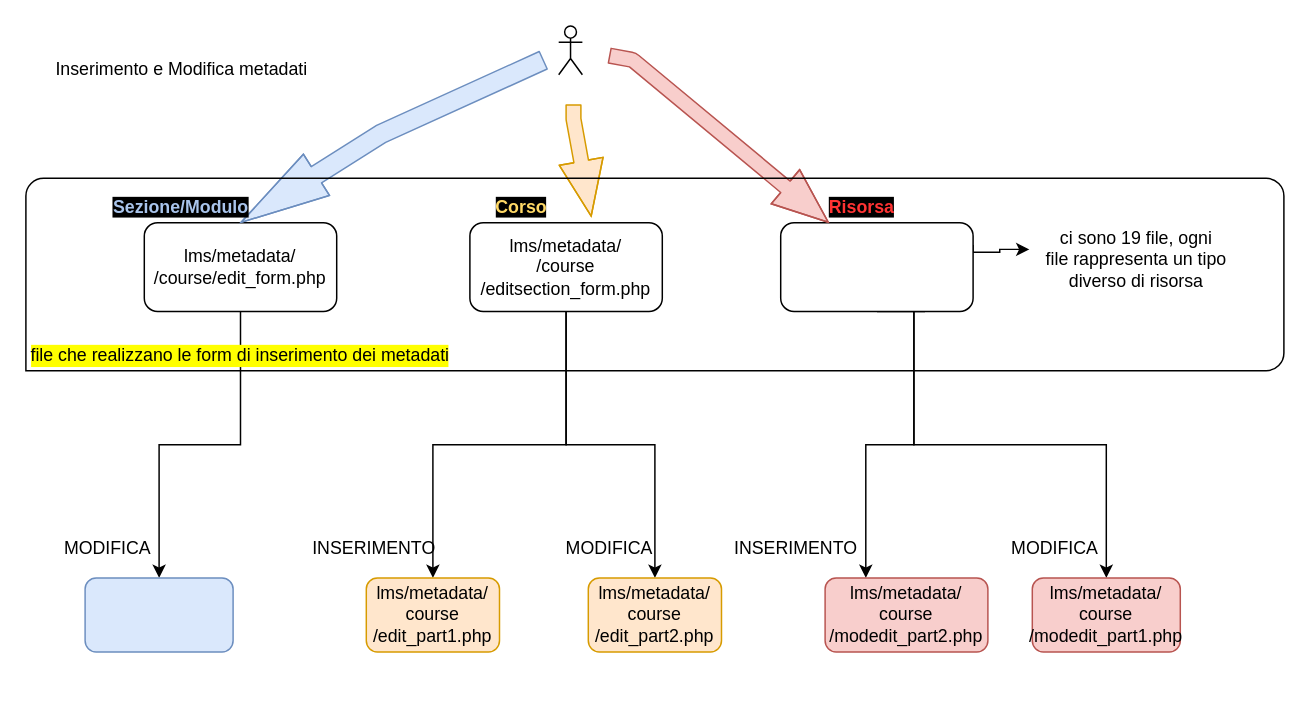
Image size: 1310x715. Some labels were removed from this diagram. Here are the shapes that lost their labels. From the top down, the centre of each, then its label:
the point at 569,49: Actor
the point at 876,266: lms/metadata/ /mod/....
the point at 158,614: lms/metadata/ course /edit_section.php
